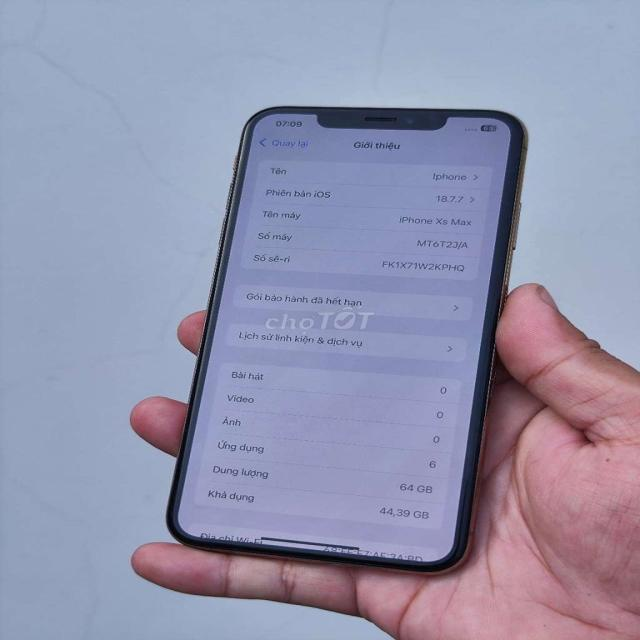gen_x_xs: (158, 70, 545, 630)
